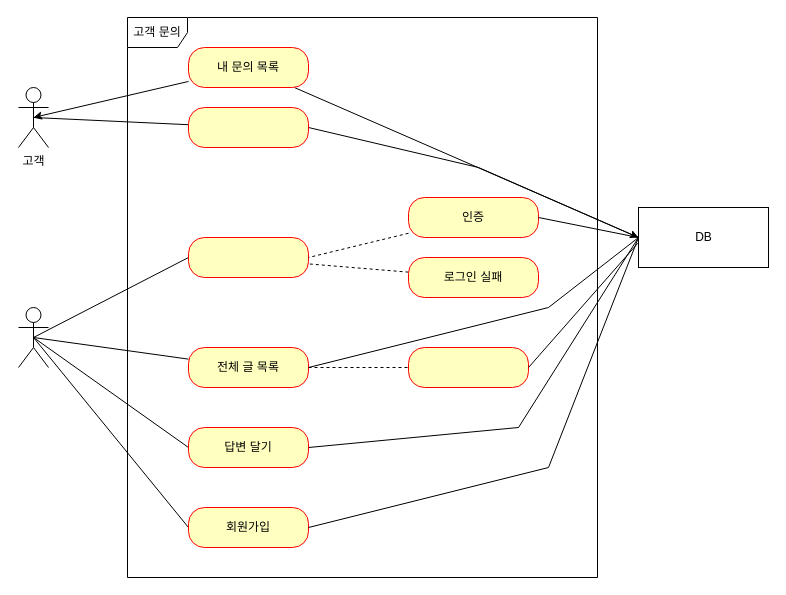
This 786x595 diagram has some shape labels left out. The centre of each missing label's shape, as x and y in pixels:
"고객 문의 등록" belongs at [248,127].
"로그인" belongs at [248,257].
"미답변 글 목록" belongs at [468,367].
"상담사" belongs at [33,337].
